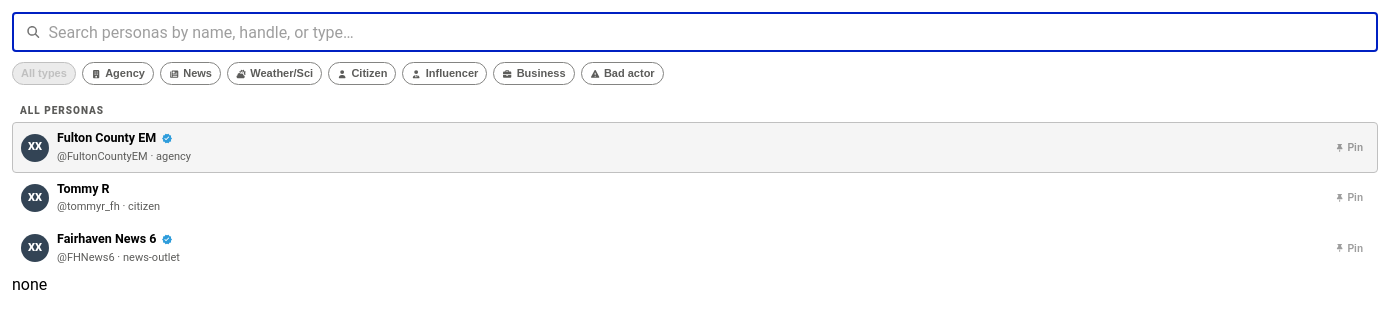
PersonaPicker — recents + pinned favorites › unpinning removes a persona from the "Pinned" section
This screenshot has width=1390, height=334.
Click the button with test id "persona-picker-pin-persona-tommyr". click: [1349, 198]
box: x1=1329 y1=191 x2=1369 y2=204
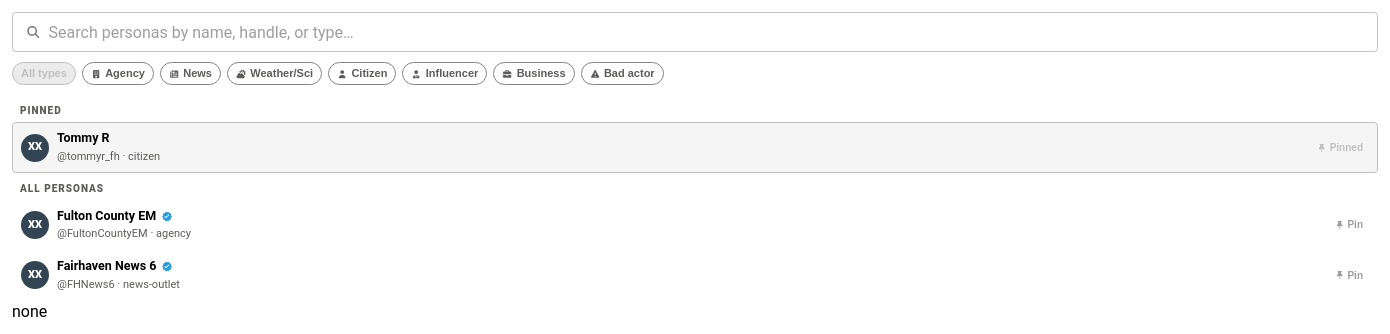
Expected: the text "PINNED" is shown, x1=20 y1=105 x2=62 y2=116
Click the button with test id "persona-picker-pin-persona-tommyr". click: [1340, 148]
box: x1=1311 y1=141 x2=1369 y2=154
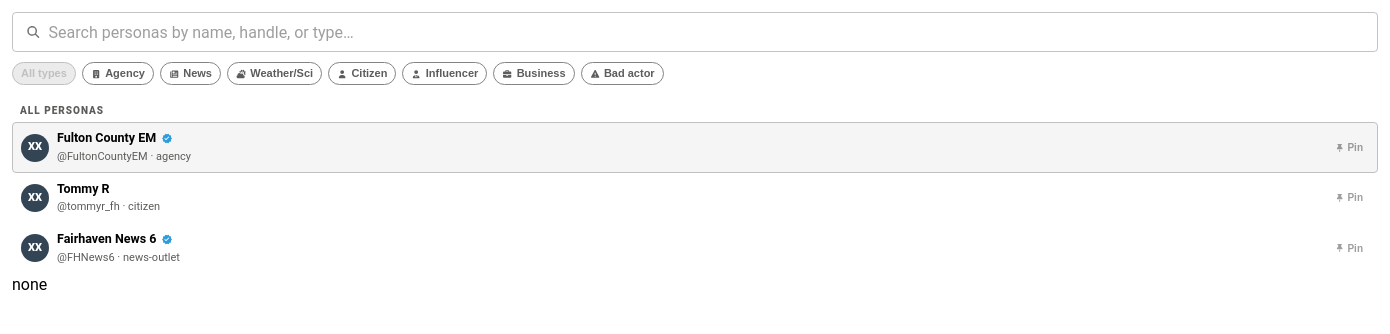
Expected: the text with test id "persona-picker-section-pinned" is gone
